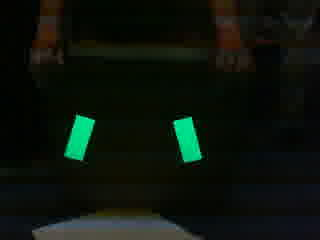target: (60, 114, 212, 164)
